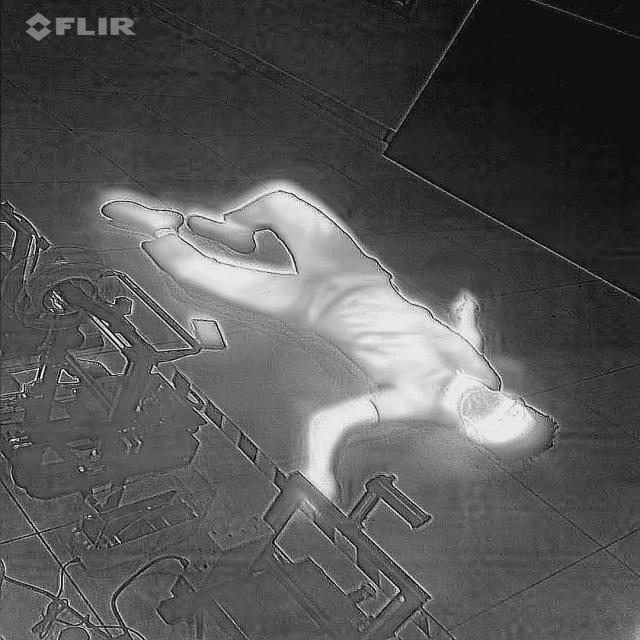Victim: (98, 181, 574, 524)
